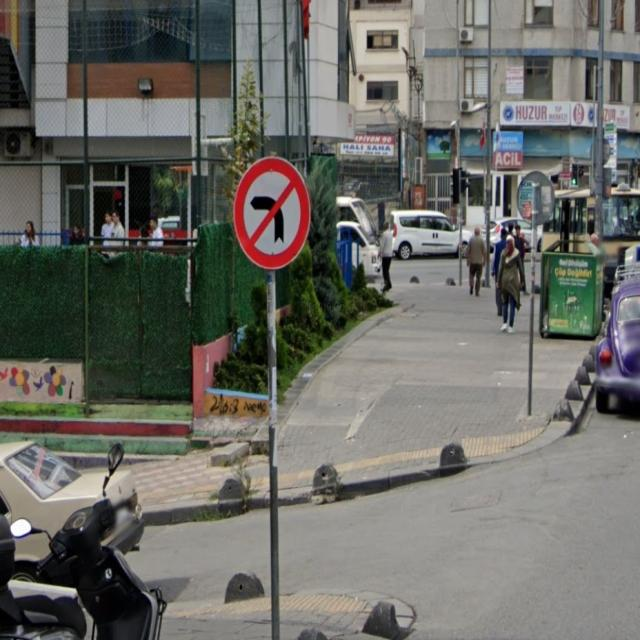soladonulmez: (234, 157, 312, 268)
